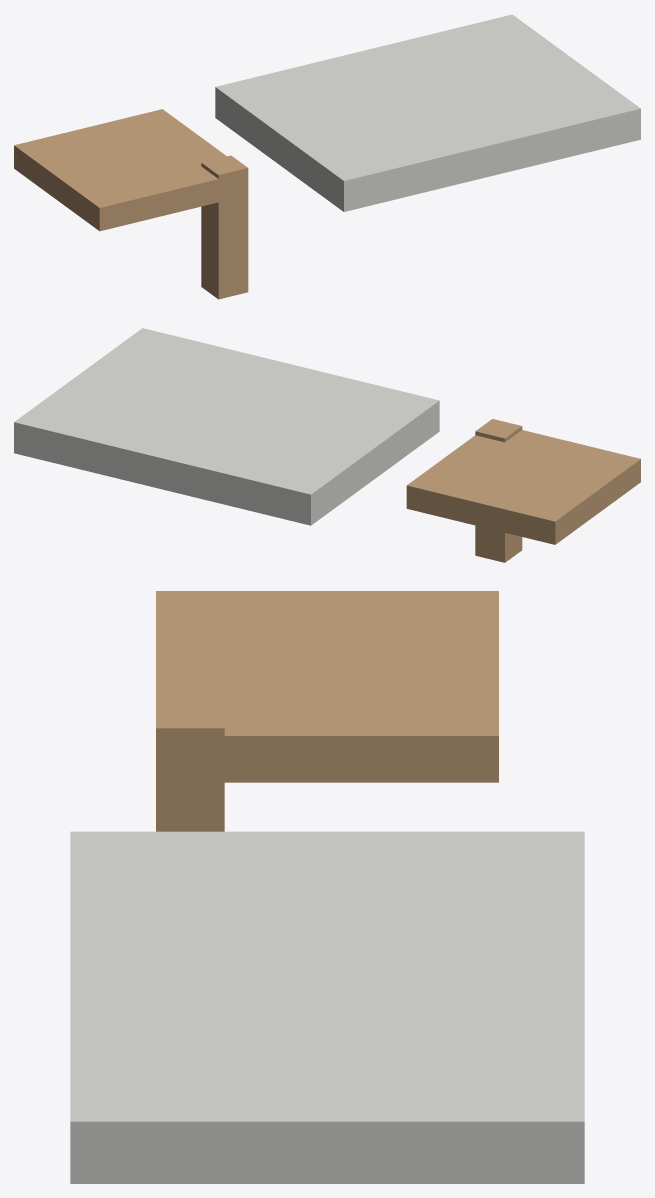
The model's file is room.glb.
3 views of the same model, one above another, from view 1: azimuth 30°, elevation 25°; view 2: azimuth 150°, elevation 25°; view 3: azimuth 270°, elevation 25° (orthographic). The views are drawn at different scales.
Visible parts, largest first — view 1: Table, Seat, Leg3; view 2: Table, Seat, Leg3; view 3: Table, Seat, Leg3.
Boxes of the visible parts, x1,y1,x2,y2 form: Table: (215,14,640,211); Seat: (14,109,248,231); Leg3: (201,155,248,299); Table: (14,328,439,525); Seat: (406,430,640,544); Leg3: (475,419,522,562); Table: (70,831,584,1183); Seat: (156,591,498,782); Leg3: (156,699,224,831).
Size of what is drawn, in the model's own units: 3.5 by 0.8 by 1.5.
